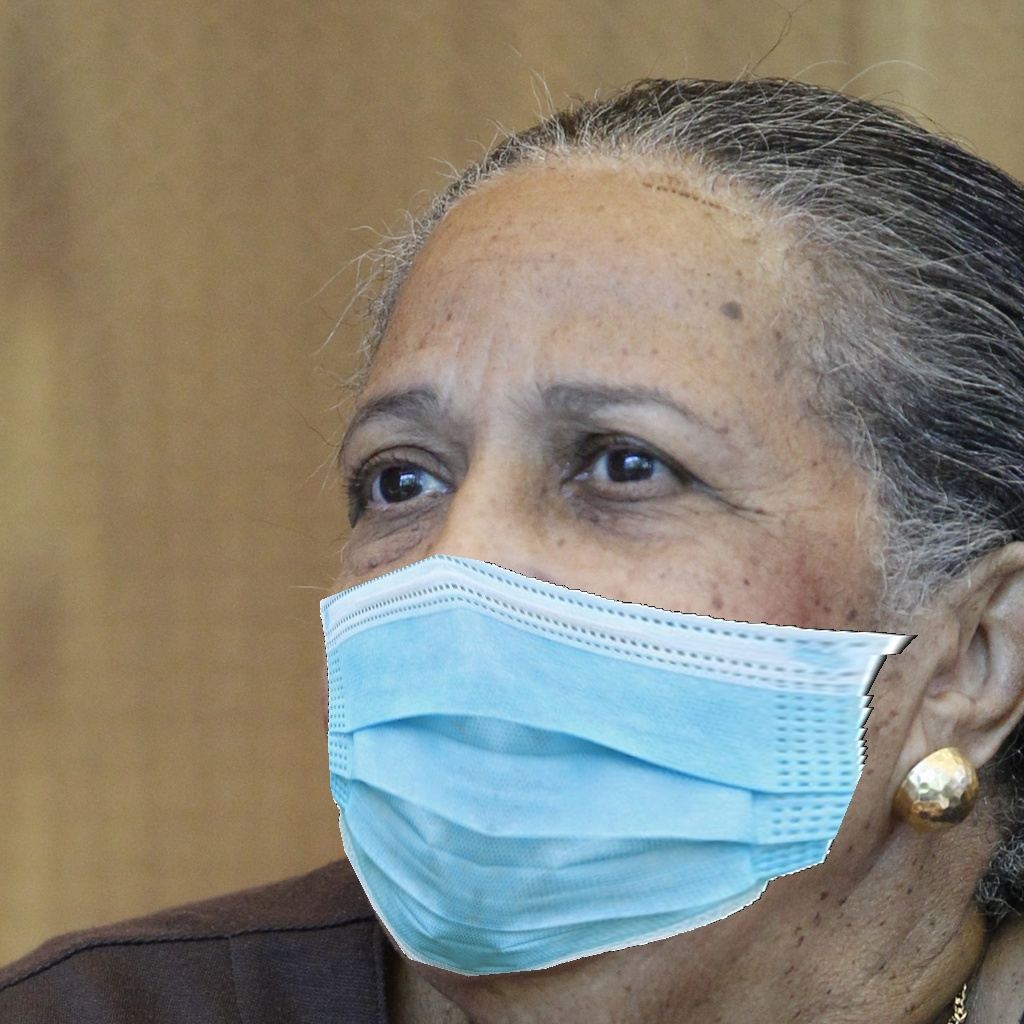Mask: (312, 356, 919, 986)
